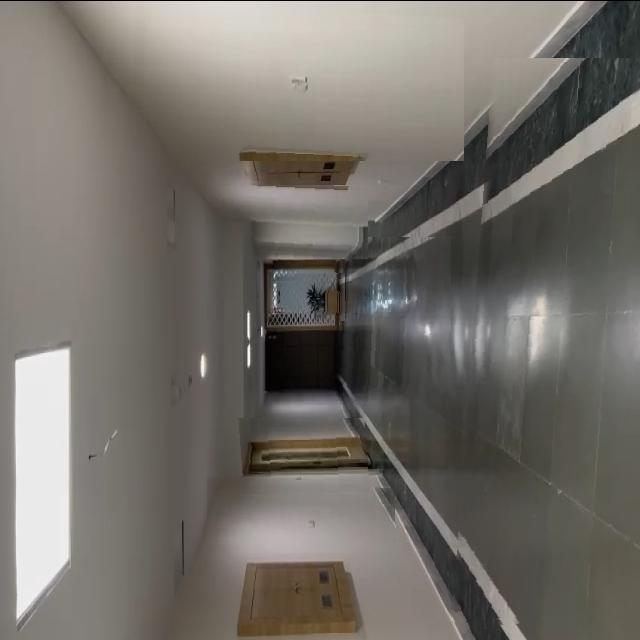door: (238, 417, 370, 493)
floor: (451, 57, 640, 629), (334, 236, 451, 410)
furniture: (299, 270, 345, 320)
wall: (130, 0, 464, 160), (207, 476, 398, 552), (245, 180, 368, 258), (261, 390, 343, 426)
